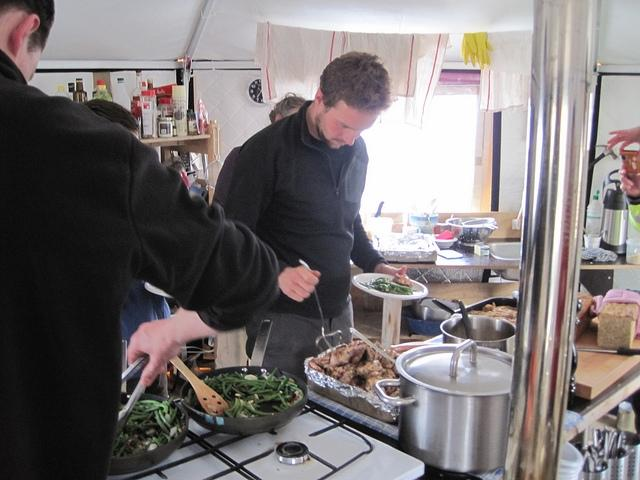green bean: (154, 410, 170, 437), (231, 386, 248, 397), (220, 384, 232, 398), (112, 435, 121, 452), (216, 377, 237, 383), (272, 395, 292, 401), (236, 403, 244, 418), (132, 410, 152, 416), (376, 284, 390, 292), (278, 376, 286, 390), (138, 400, 162, 404), (142, 422, 159, 427), (246, 386, 258, 393), (397, 287, 407, 295), (138, 434, 147, 442), (250, 382, 264, 387), (242, 397, 255, 402), (158, 436, 166, 444), (228, 374, 238, 378), (126, 422, 130, 432), (212, 382, 218, 388), (374, 284, 381, 288), (270, 376, 276, 380), (142, 427, 149, 430), (246, 387, 250, 390)
